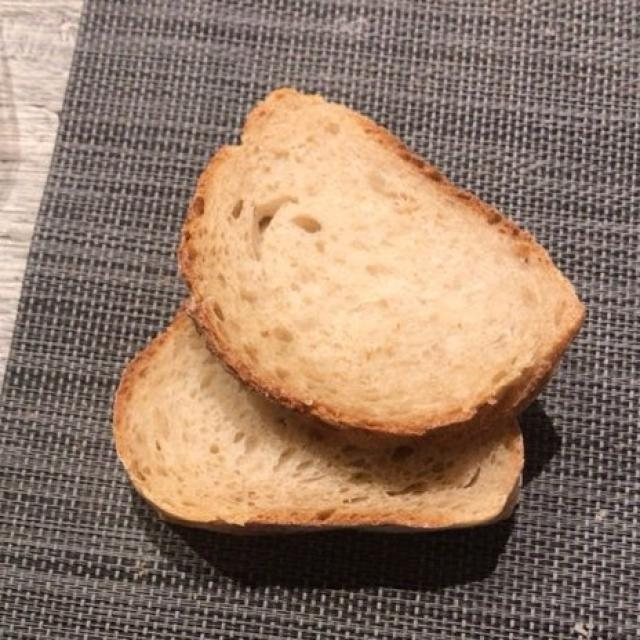bread: (112, 96, 576, 547)
